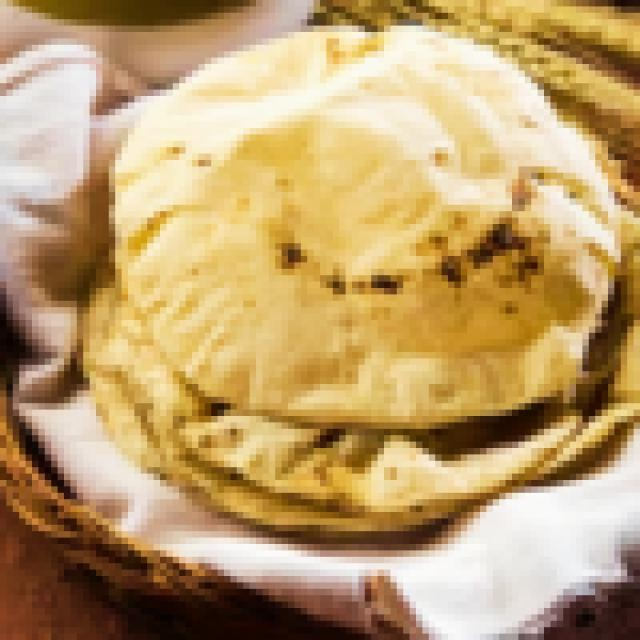ROTI: (115, 26, 614, 422)
